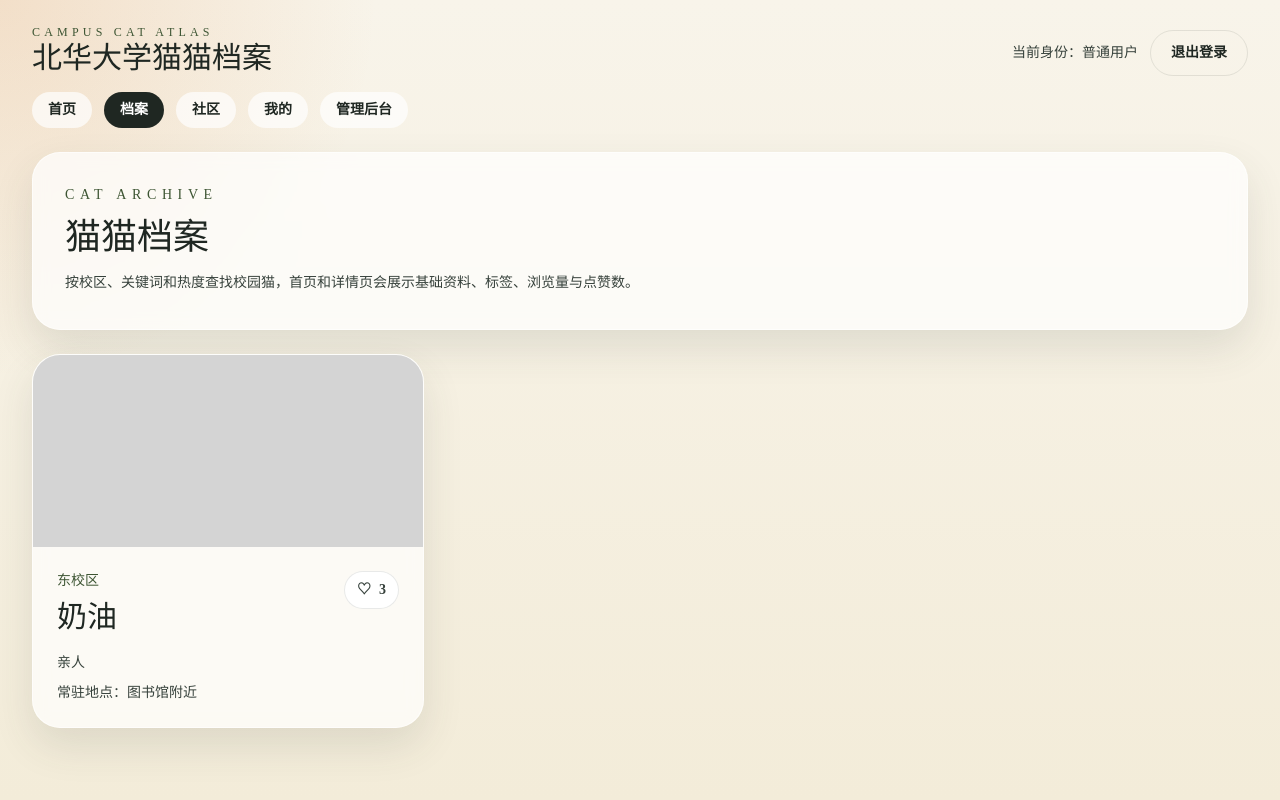
Public pages › allows guest users to like a cat from the archive page
Click the button named "点赞奶油". click: {"x": 372, "y": 590}
box: [344,571,399,609]
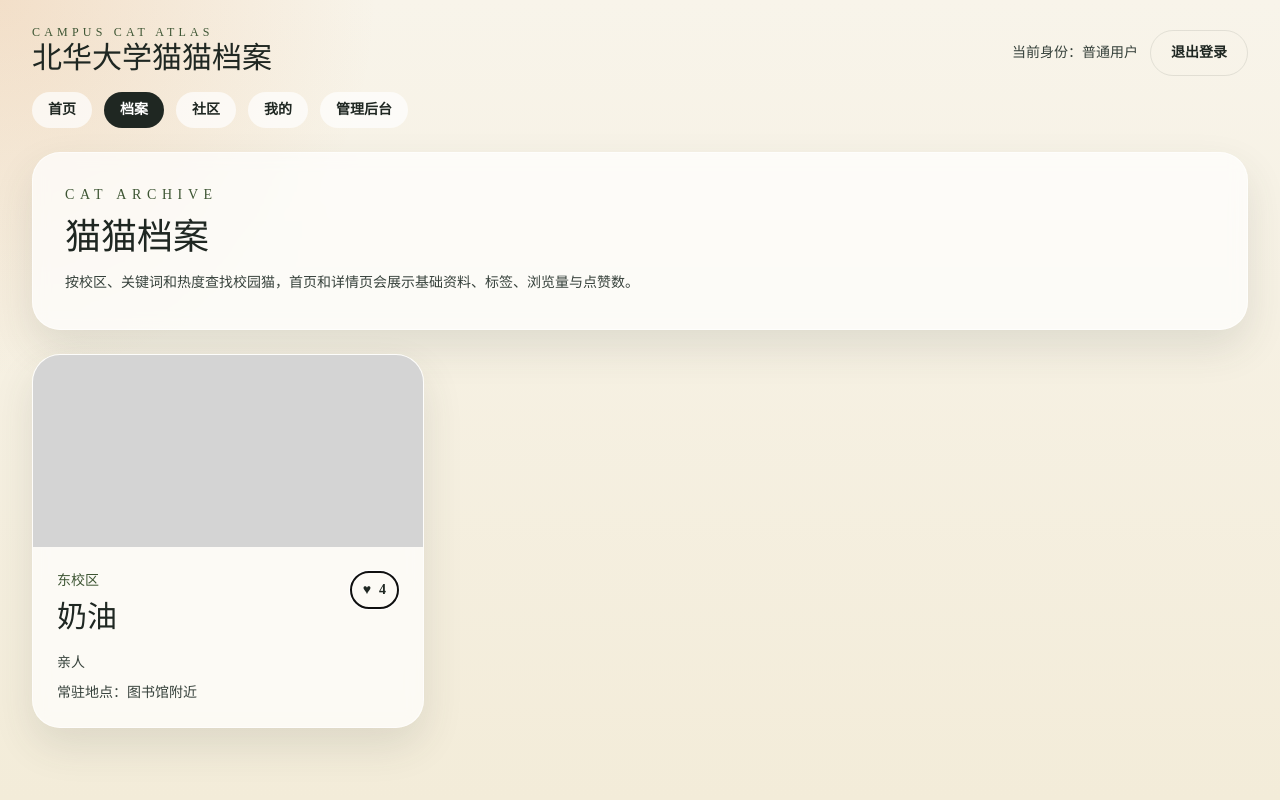
expect the button named "取消点赞奶油" shows "4": met, box [350,571,399,609]
